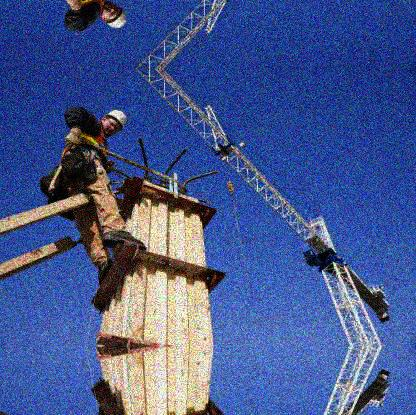helmet: (100, 105, 128, 137), (100, 1, 129, 30)
